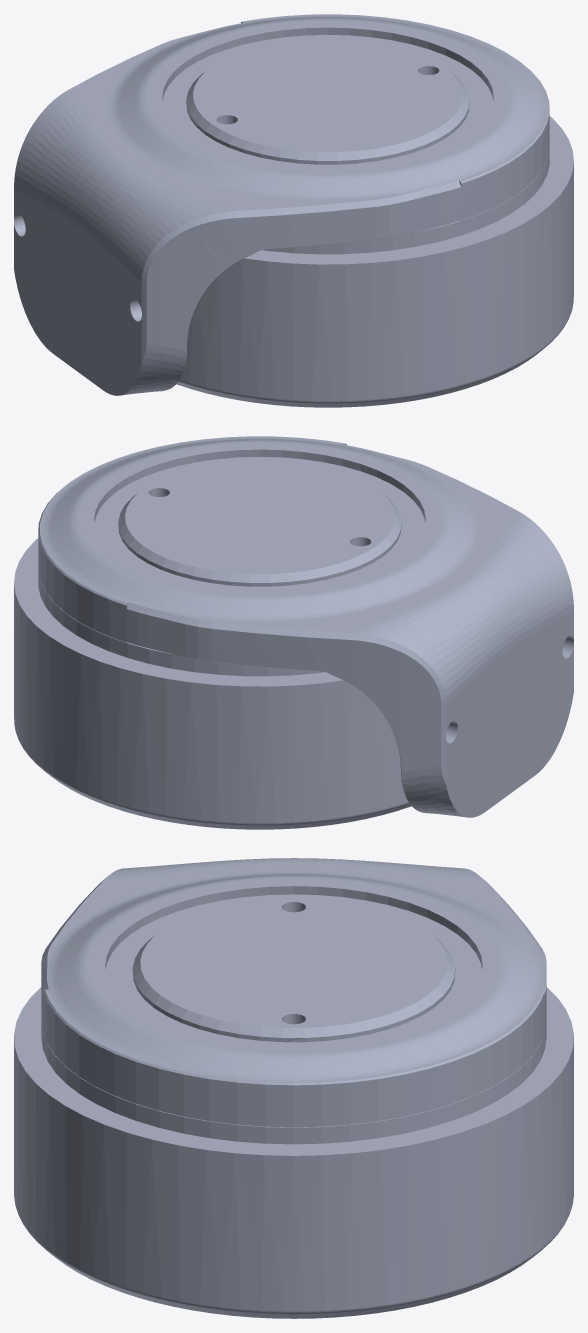
Rendered from hip.obj.
3 views of the same model, one above another, from view 1: azimuth 30°, elevation 25°; view 2: azimuth 150°, elevation 25°; view 3: azimuth 270°, elevation 25° (orthographic). The views are drawn at different scales.
Parts seen in each view (by area): view 1: Hip-mesh; view 2: Hip-mesh; view 3: Hip-mesh.
Part boxes in pixels (bbox=[...]): Hip-mesh: bbox=[14, 14, 573, 407]; Hip-mesh: bbox=[14, 436, 573, 829]; Hip-mesh: bbox=[14, 858, 573, 1318].
Bounding box in the file's own units: 0.1 × 0.0445 × 0.092.
